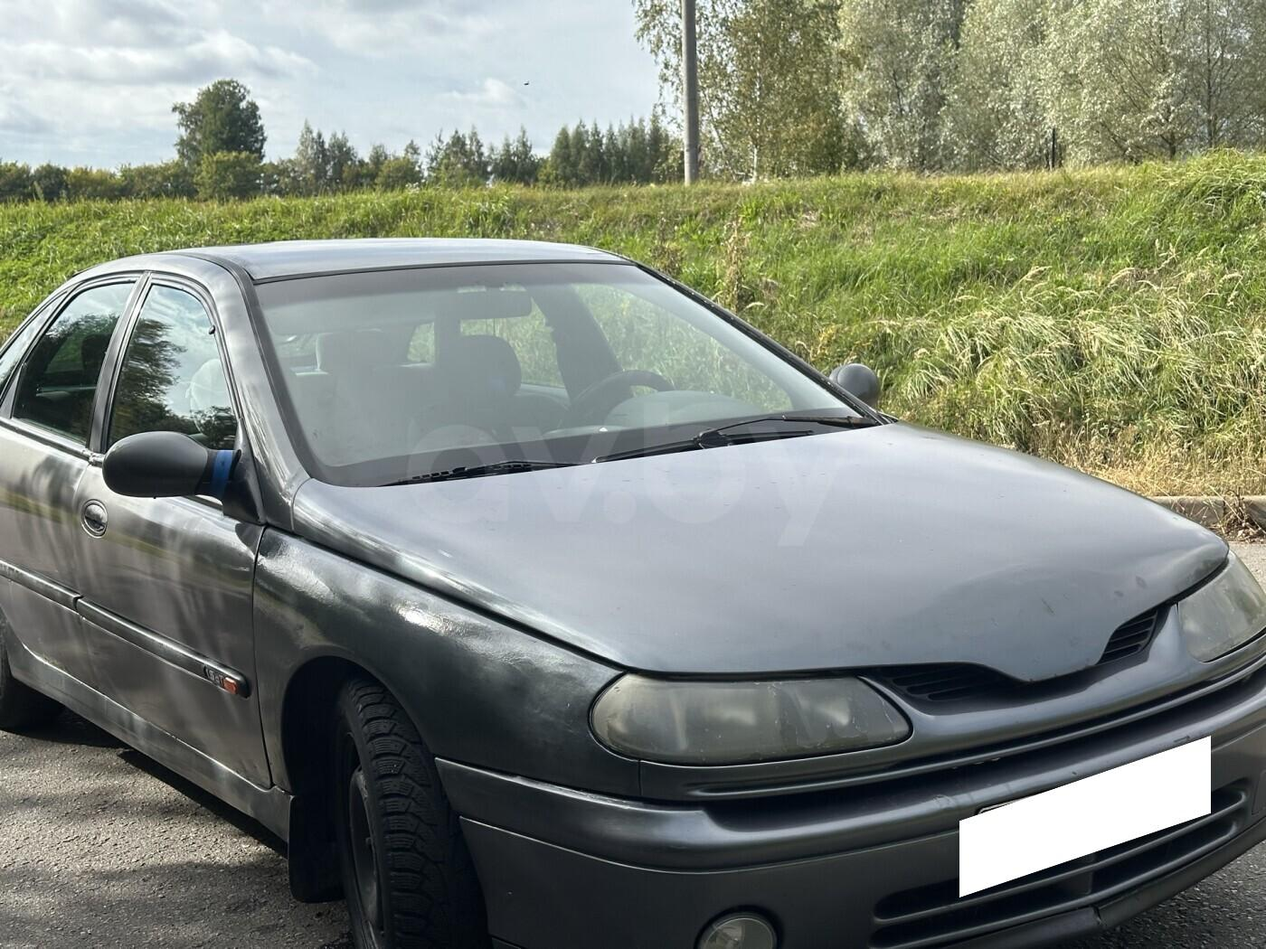Laguna_1998-2001: (0, 233, 1266, 949)
